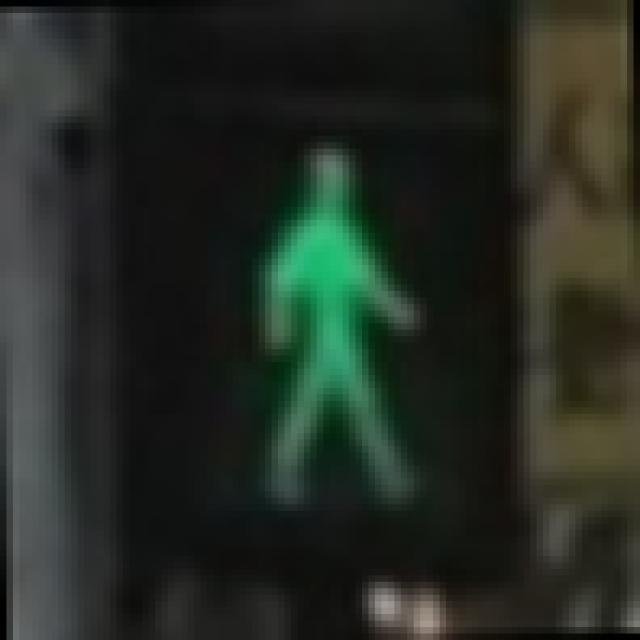green_light: (110, 91, 511, 530)
